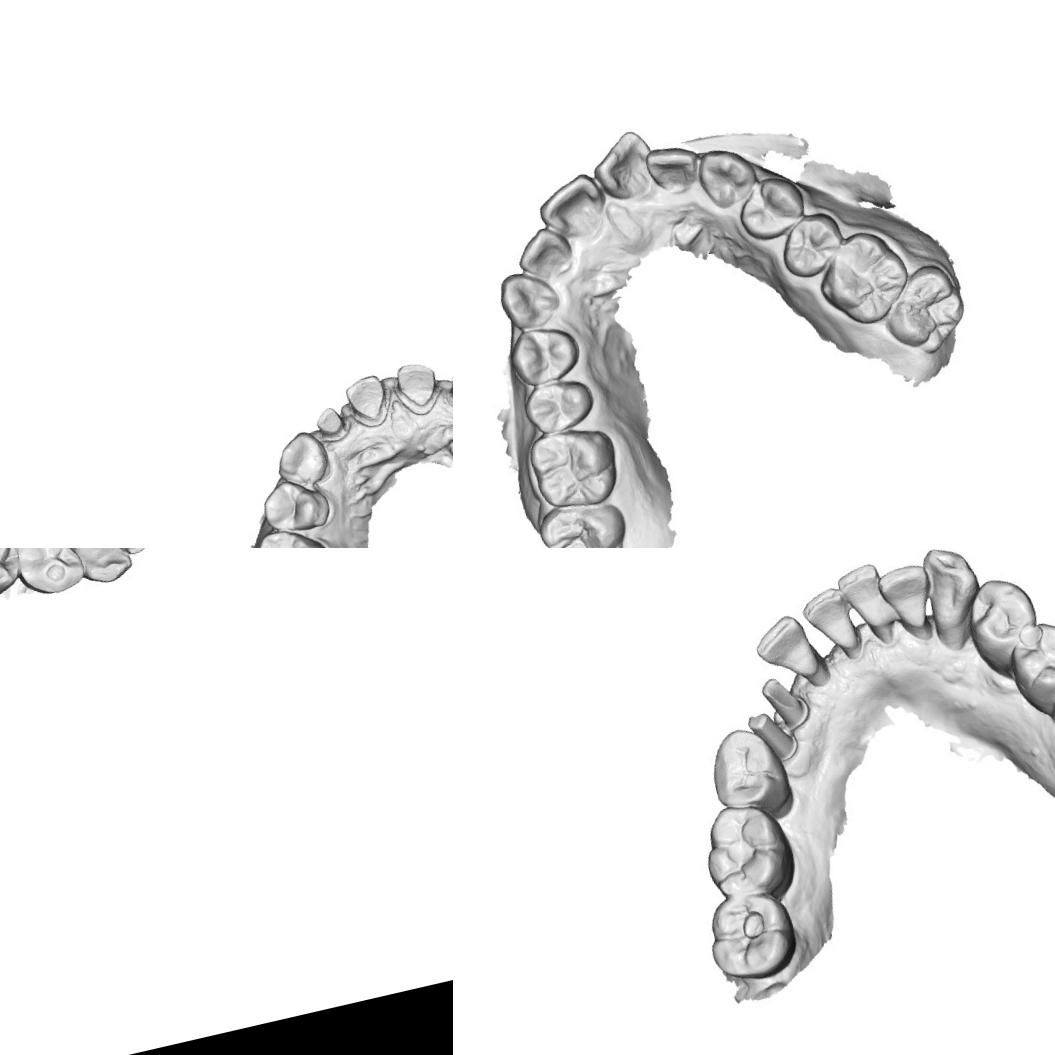abutment: (738, 698, 806, 775), (755, 662, 816, 737)
canine: (919, 548, 991, 654), (492, 259, 568, 336), (268, 424, 336, 494), (692, 142, 758, 212), (65, 548, 131, 589)
crown: (388, 354, 447, 420), (340, 368, 395, 433), (311, 402, 350, 445), (442, 365, 453, 409)
incisor: (746, 606, 830, 696), (531, 168, 613, 246), (586, 126, 661, 205), (875, 562, 944, 646), (796, 582, 864, 663), (836, 563, 898, 648), (640, 132, 705, 200), (514, 224, 576, 286), (89, 548, 159, 562)
molar: (690, 795, 798, 907), (703, 888, 804, 990), (815, 225, 915, 326), (877, 257, 970, 362), (526, 420, 620, 512), (534, 497, 631, 548), (249, 519, 340, 548)
premolar: (701, 717, 800, 834), (954, 570, 1046, 678), (997, 612, 1055, 723), (774, 206, 850, 284), (256, 470, 336, 540), (734, 168, 807, 244), (510, 317, 583, 386), (520, 374, 598, 438), (16, 548, 80, 595)
